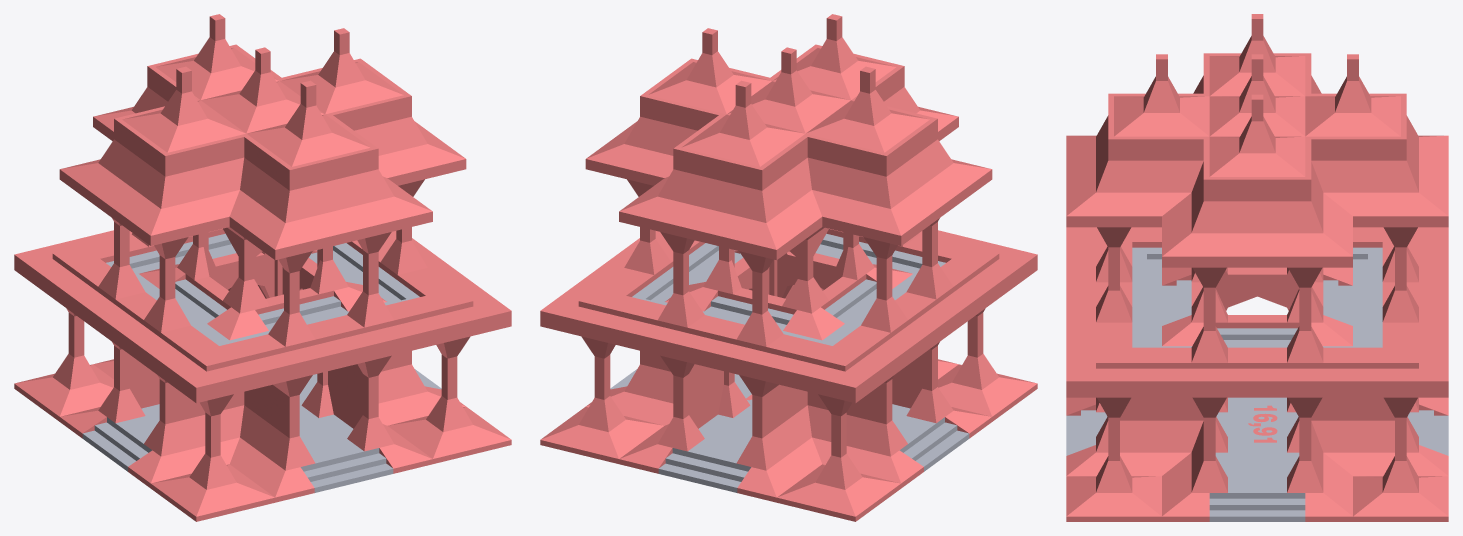
The model's file is Folly_01.glb.
The picture shows the model from 3 angles, left to right: view 1: azimuth 30°, elevation 25°; view 2: azimuth 150°, elevation 25°; view 3: azimuth 270°, elevation 25°; orthographic projection. The views are drawn at different scales.
Visible parts, largest first — view 1: mass; view 2: mass; view 3: mass.
Boxes of the visible parts, bbox=[...] form: mass: bbox=[14, 14, 511, 521]; mass: bbox=[540, 14, 1037, 521]; mass: bbox=[1066, 14, 1448, 521].
Size of what is drawn, in the model's own units: 16 by 17.75 by 16.
